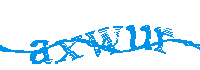a: (29, 40, 51, 67)
r: (152, 23, 176, 55)
u: (127, 21, 154, 52)
w: (83, 24, 124, 58)
x: (54, 35, 85, 62)
